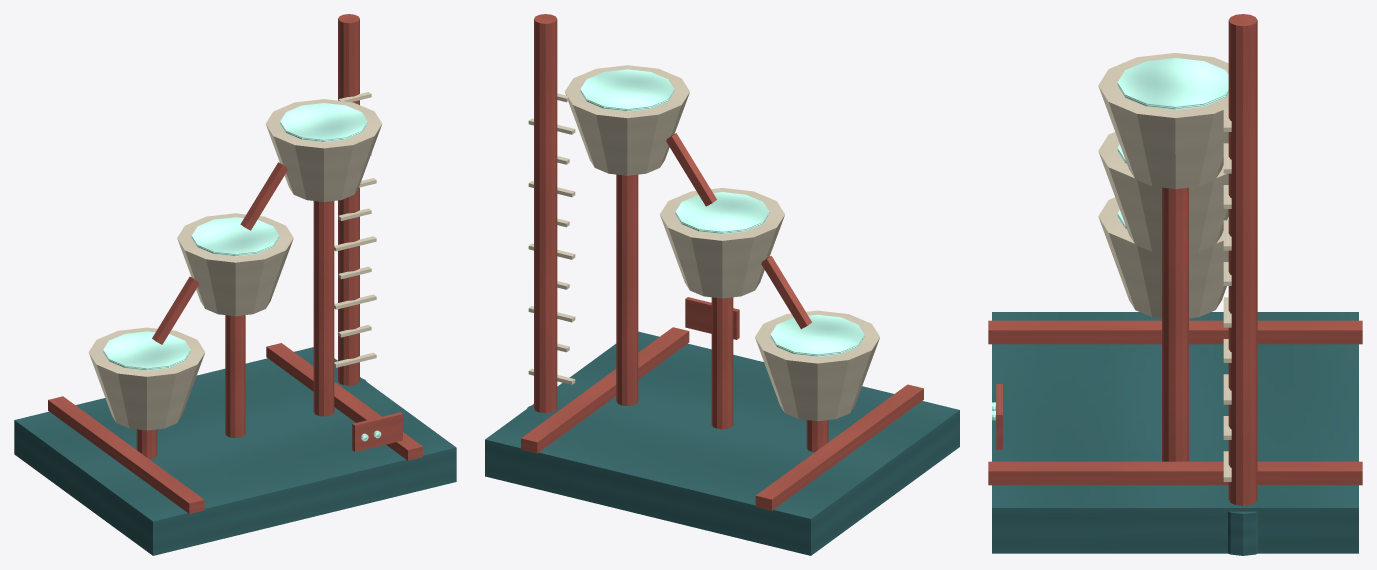
Rendered from atlas100-s039-a01.glb.
The picture shows the model from 3 angles, left to right: view 1: azimuth 30°, elevation 25°; view 2: azimuth 150°, elevation 25°; view 3: azimuth 270°, elevation 25°; orthographic projection. The views are drawn at different scales.
Visible parts, largest first — view 1: atlas100-s039-a01:part-000, atlas100-s039-a01:part-011, atlas100-s039-a01:part-004, atlas100-s039-a01:part-007, atlas100-s039-a01:part-014, atlas100-s039-a01:part-010, atlas100-s039-a01:part-001, atlas100-s039-a01:part-012, atlas100-s039-a01:part-002, atlas100-s039-a01:part-005, atlas100-s039-a01:part-008, atlas100-s039-a01:part-006 (+4 smaller); view 2: atlas100-s039-a01:part-000, atlas100-s039-a01:part-014, atlas100-s039-a01:part-011, atlas100-s039-a01:part-004, atlas100-s039-a01:part-007, atlas100-s039-a01:part-010, atlas100-s039-a01:part-001, atlas100-s039-a01:part-002, atlas100-s039-a01:part-012, atlas100-s039-a01:part-006, atlas100-s039-a01:part-005, atlas100-s039-a01:part-008 (+4 smaller); view 3: atlas100-s039-a01:part-000, atlas100-s039-a01:part-014, atlas100-s039-a01:part-011, atlas100-s039-a01:part-002, atlas100-s039-a01:part-001, atlas100-s039-a01:part-010, atlas100-s039-a01:part-007, atlas100-s039-a01:part-004, atlas100-s039-a01:part-012, atlas100-s039-a01:part-015, atlas100-s039-a01:part-026.
Boxes of the visible parts, bbox=[...] form: atlas100-s039-a01:part-000: bbox=[14, 347, 456, 555]; atlas100-s039-a01:part-011: bbox=[265, 99, 382, 201]; atlas100-s039-a01:part-004: bbox=[88, 327, 205, 430]; atlas100-s039-a01:part-007: bbox=[177, 213, 293, 316]; atlas100-s039-a01:part-014: bbox=[338, 14, 359, 385]; atlas100-s039-a01:part-010: bbox=[313, 201, 334, 416]; atlas100-s039-a01:part-001: bbox=[48, 396, 204, 513]; atlas100-s039-a01:part-012: bbox=[280, 103, 367, 142]; atlas100-s039-a01:part-002: bbox=[266, 343, 422, 460]; atlas100-s039-a01:part-005: bbox=[103, 331, 190, 370]; atlas100-s039-a01:part-008: bbox=[191, 217, 279, 256]; atlas100-s039-a01:part-006: bbox=[225, 315, 245, 437]; atlas100-s039-a01:part-000: bbox=[485, 331, 959, 555]; atlas100-s039-a01:part-014: bbox=[534, 14, 557, 413]; atlas100-s039-a01:part-011: bbox=[565, 65, 689, 175]; atlas100-s039-a01:part-004: bbox=[755, 310, 879, 421]; atlas100-s039-a01:part-007: bbox=[660, 188, 784, 298]; atlas100-s039-a01:part-010: bbox=[616, 174, 638, 406]; atlas100-s039-a01:part-001: bbox=[755, 384, 923, 510]; atlas100-s039-a01:part-002: bbox=[521, 327, 689, 453]; atlas100-s039-a01:part-012: bbox=[580, 69, 674, 111]; atlas100-s039-a01:part-006: bbox=[711, 297, 733, 429]; atlas100-s039-a01:part-005: bbox=[770, 314, 864, 356]; atlas100-s039-a01:part-008: bbox=[675, 192, 769, 234]; atlas100-s039-a01:part-000: bbox=[992, 312, 1358, 553]; atlas100-s039-a01:part-014: bbox=[1228, 14, 1257, 505]; atlas100-s039-a01:part-011: bbox=[1098, 53, 1228, 188]; atlas100-s039-a01:part-002: bbox=[988, 461, 1362, 485]; atlas100-s039-a01:part-001: bbox=[988, 320, 1362, 344]; atlas100-s039-a01:part-010: bbox=[1162, 187, 1188, 461]; atlas100-s039-a01:part-007: bbox=[1098, 132, 1228, 252]; atlas100-s039-a01:part-004: bbox=[1098, 197, 1228, 318]; atlas100-s039-a01:part-012: bbox=[1117, 58, 1228, 109]; atlas100-s039-a01:part-015: bbox=[1228, 511, 1257, 555]; atlas100-s039-a01:part-026: bbox=[996, 384, 1002, 449].
Bounding box in the file's own units: 2.46 × 3 × 1.94.
Materials: 4 (4 with a texture image).
